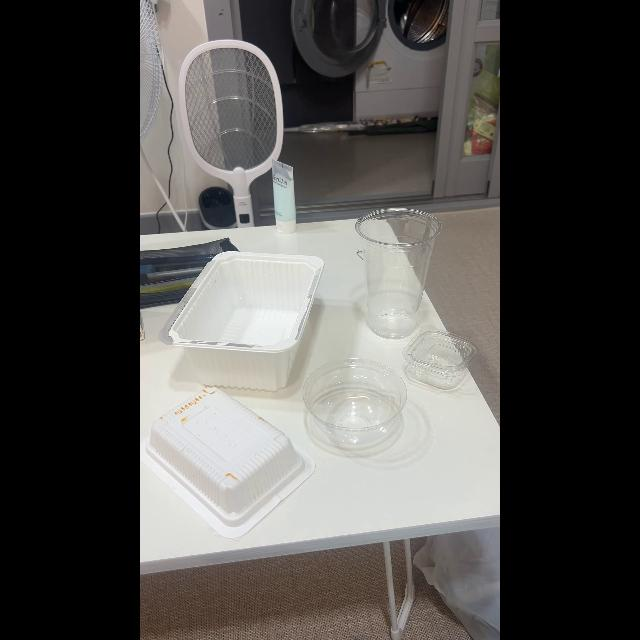clean: (158, 252, 324, 382), (358, 212, 438, 341), (304, 364, 408, 452), (402, 330, 476, 388)
dirty: (149, 387, 301, 518)
